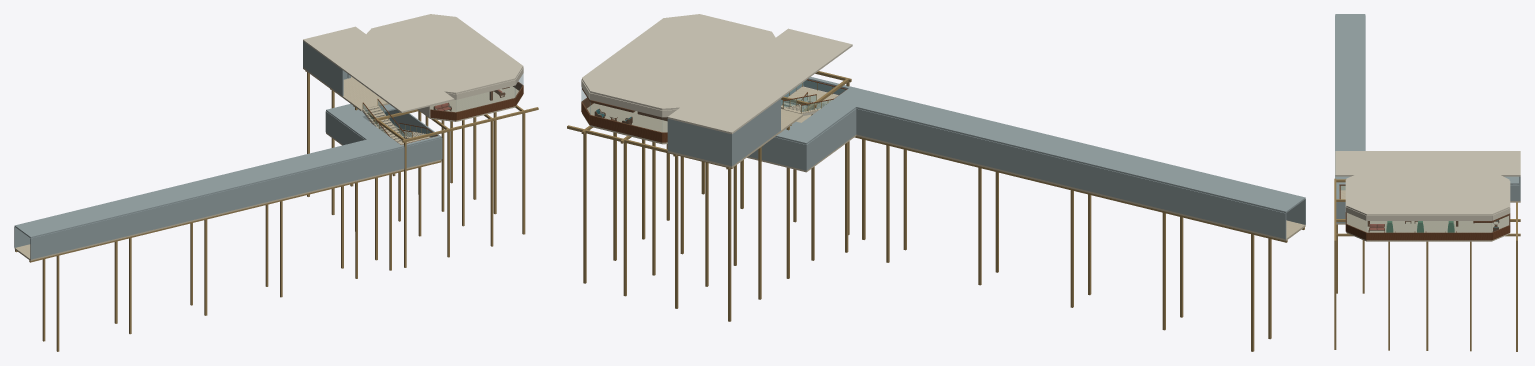
Rendered from D04_STARBOARD_AFT_CO_r002.glb.
3 views of the same model, side by side, from view 1: azimuth 30°, elevation 25°; view 2: azimuth 150°, elevation 25°; view 3: azimuth 270°, elevation 25° (orthographic). The views are drawn at different scales.
Parts seen in each view (by area): view 1: SAC_CommonsRoof, SAC_LowerSharedRoof, SAC_LowerScreen_5, SAC_CommonsFloor, SAC_LowerScreen_6, SAC_ServiceWest, SAC_LowerSharedFloor, SAC_StaffStair450, SAC_LowerTransfer_383.15, SAC_PerimeterGlass_5, SAC_LowerScreen_2, SAC_PerimeterDado_5 (+4 smaller); view 2: SAC_CommonsRoof, SAC_LowerScreen_3, SAC_LowerSharedRoof, SAC_ServiceNorth, SAC_CommonsFloor, SAC_ServiceWest, SAC_LowerSharedFloor, SAC_LowerScreen_2, SAC_LowerScreen_1, SAC_LowerTransfer_379.25, SAC_PerimeterGlass_1, SAC_PerimeterDado_1 (+6 smaller); view 3: SAC_CommonsRoof, SAC_LowerSharedRoof, SAC_CommonsFloor, SAC_PerimeterGlass_3, SAC_PerimeterDado_3, SAC_PerimeterHead_3, SAC_UpperBearing_82.45_369.9, SAC_UpperBearing_82.45_383.4, SAC_PerimeterGlass_4, SAC_UpperBearing_82.45_356.7, SAC_UpperBearing_82.45_363.5, SAC_UpperBearing_82.45_375.5 (+7 smaller).
Part boxes in pixels (left/top/right/bottom): SAC_CommonsRoof: left=303, top=14, right=523, bottom=112; SAC_LowerSharedRoof: left=14, top=104, right=441, bottom=238; SAC_LowerScreen_5: left=30, top=152, right=382, bottom=259; SAC_CommonsFloor: left=303, top=67, right=523, bottom=121; SAC_LowerScreen_6: left=383, top=138, right=441, bottom=173; SAC_ServiceWest: left=303, top=41, right=343, bottom=96; SAC_LowerSharedFloor: left=14, top=121, right=441, bottom=260; SAC_StaffStair450: left=362, top=99, right=427, bottom=142; SAC_LowerTransfer_383.15: left=29, top=161, right=441, bottom=262; SAC_PerimeterGlass_5: left=456, top=86, right=514, bottom=111; SAC_LowerScreen_2: left=325, top=111, right=364, bottom=144; SAC_PerimeterDado_5: left=456, top=98, right=515, bottom=120; SAC_CommonsRoof: left=582, top=14, right=852, bottom=134; SAC_LowerScreen_3: left=856, top=108, right=1286, bottom=239; SAC_LowerSharedRoof: left=775, top=77, right=1305, bottom=213; SAC_ServiceNorth: left=667, top=119, right=732, bottom=165; SAC_CommonsFloor: left=582, top=103, right=802, bottom=167; SAC_ServiceWest: left=731, top=99, right=780, bottom=166; SAC_LowerSharedFloor: left=747, top=114, right=1305, bottom=240; SAC_LowerScreen_2: left=806, top=109, right=856, bottom=170; SAC_LowerScreen_1: left=748, top=137, right=806, bottom=170; SAC_LowerTransfer_379.25: left=854, top=136, right=1287, bottom=242; SAC_PerimeterGlass_1: left=590, top=100, right=661, bottom=132; SAC_PerimeterDado_1: left=590, top=115, right=662, bottom=142; SAC_CommonsRoof: left=1335, top=151, right=1520, bottom=215; SAC_LowerSharedRoof: left=1335, top=14, right=1365, bottom=203; SAC_CommonsFloor: left=1346, top=201, right=1520, bottom=241; SAC_PerimeterGlass_3: left=1367, top=221, right=1491, bottom=232; SAC_PerimeterDado_3: left=1366, top=232, right=1491, bottom=240; SAC_PerimeterHead_3: left=1366, top=215, right=1491, bottom=220; SAC_UpperBearing_82.45_369.9: left=1426, top=242, right=1428, bottom=350; SAC_UpperBearing_82.45_383.4: left=1334, top=233, right=1336, bottom=349; SAC_PerimeterGlass_4: left=1346, top=213, right=1366, bottom=231; SAC_UpperBearing_82.45_356.7: left=1516, top=233, right=1517, bottom=351; SAC_UpperBearing_82.45_363.5: left=1470, top=242, right=1471, bottom=351; SAC_UpperBearing_82.45_375.5: left=1388, top=242, right=1389, bottom=350.
Size of the model in its own units: 81.08 by 24.03 by 27.34.
87 materials, 82 textured.
